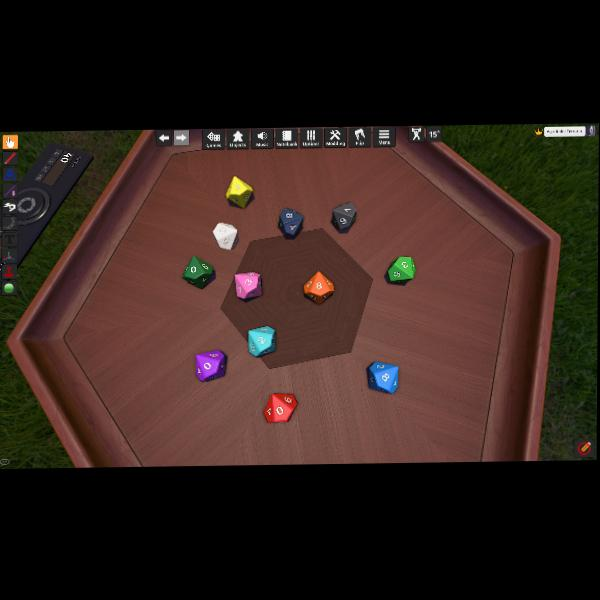d10: (303, 270, 335, 304), (263, 393, 297, 423), (183, 256, 213, 288), (195, 350, 225, 382), (368, 361, 397, 392), (226, 175, 253, 208), (247, 326, 276, 356), (386, 255, 414, 283), (234, 271, 261, 300), (279, 207, 304, 236), (332, 202, 357, 230), (212, 222, 236, 249)
